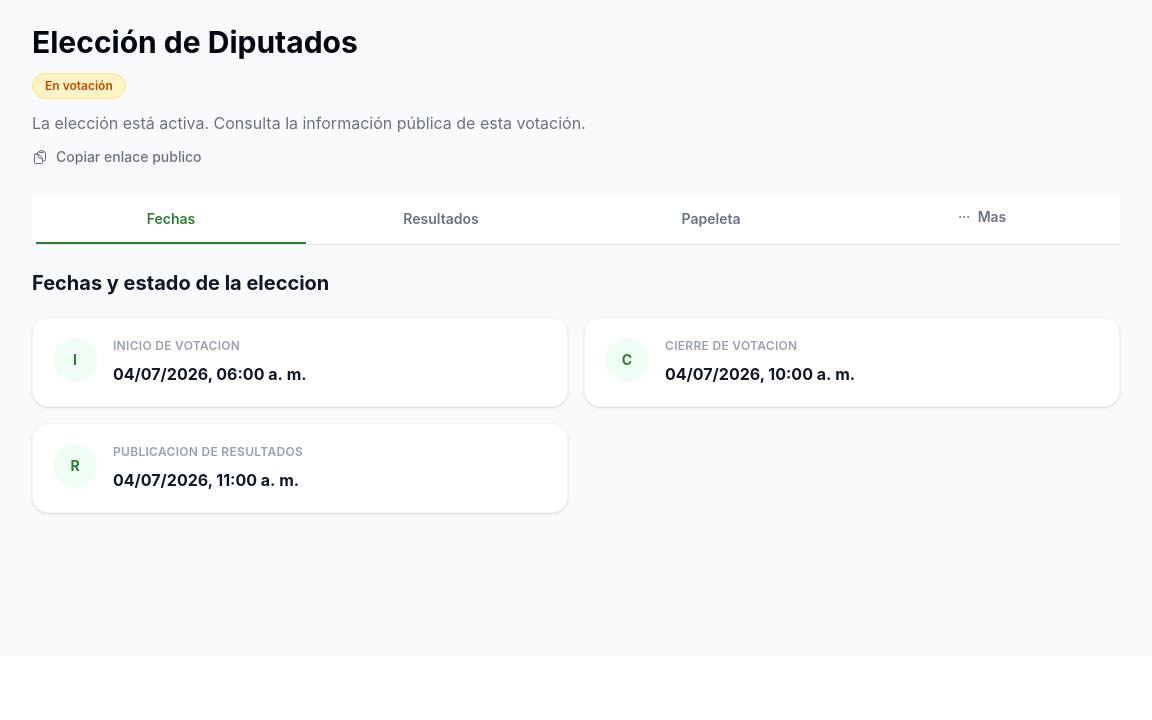
Test: participation analytics flow › muestra error controlado si falla analytics dentro del modal
The width and height of the screenshot is (1152, 720).
Click the tab "Mas" at (981, 220), box [846, 195, 1116, 244]
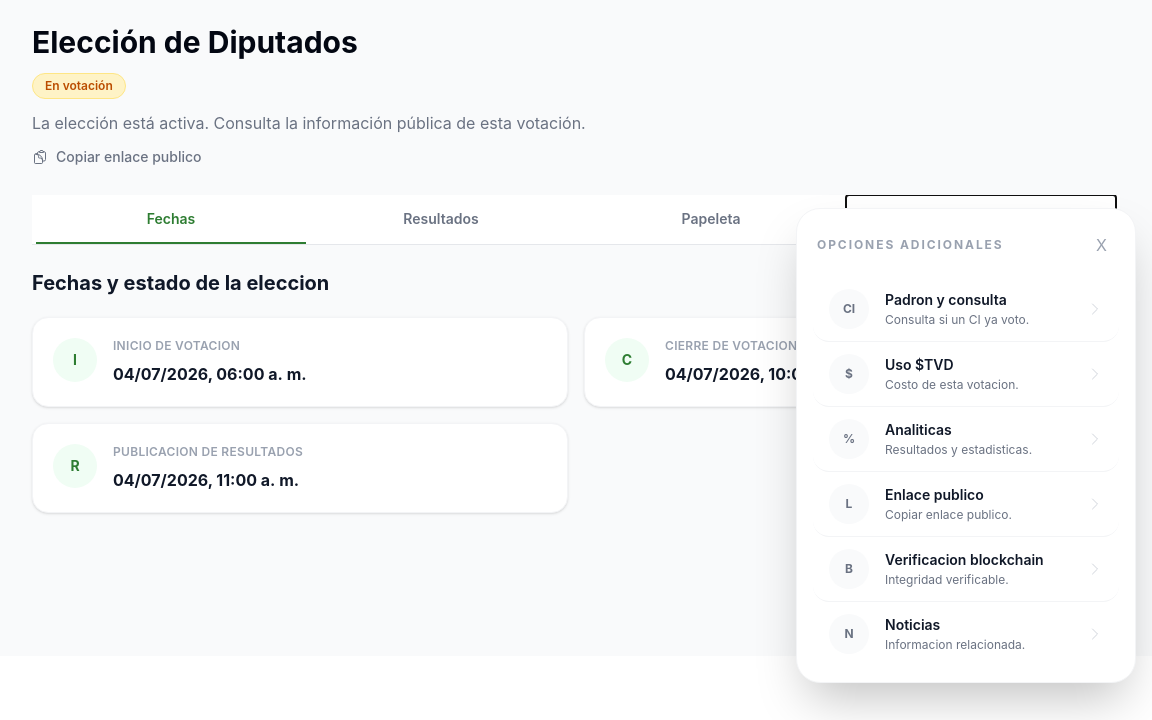
Click the button "% Analiticas Resultados y estadisticas." at (966, 440), box [813, 407, 1119, 472]
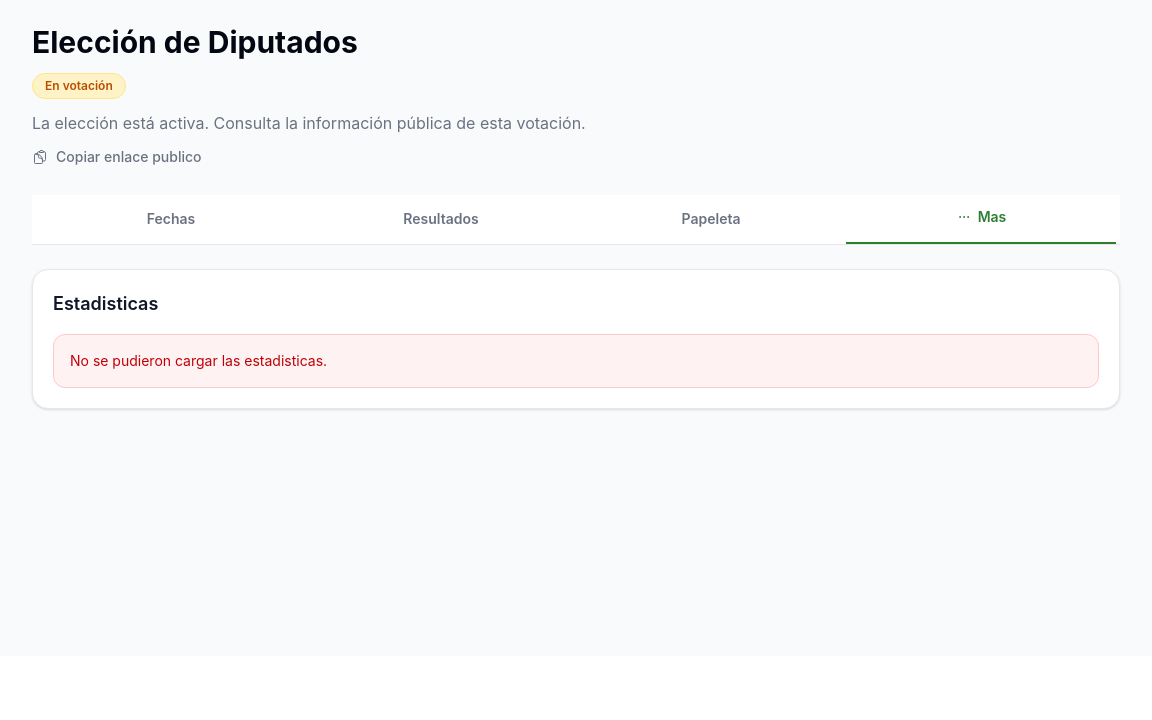
Now the text "No se pudieron cargar las estadisticas." is shown, box [53, 334, 1099, 388]
